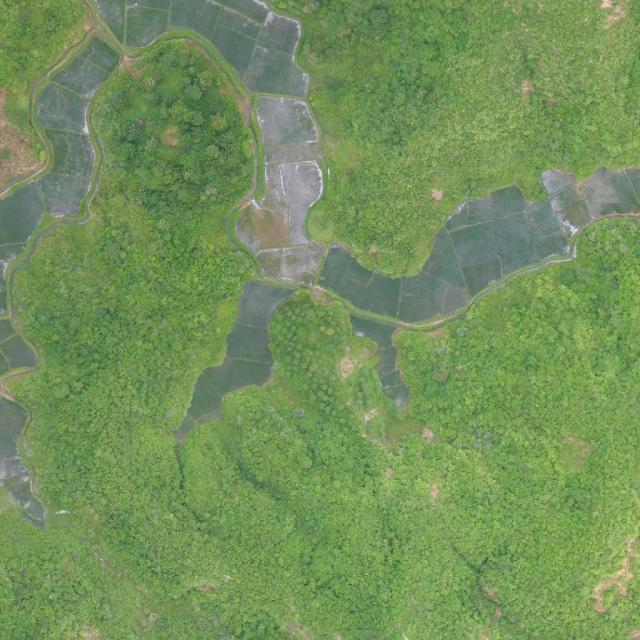agricultural_land: (168, 270, 311, 466), (0, 391, 48, 531), (51, 31, 123, 105), (38, 130, 97, 220), (279, 159, 331, 246), (243, 45, 311, 98), (0, 181, 44, 259), (34, 82, 93, 133), (203, 25, 258, 77), (234, 202, 289, 252), (275, 234, 326, 287), (257, 12, 304, 57), (126, 6, 168, 49), (228, 206, 264, 256), (217, 6, 263, 40), (96, 0, 125, 42), (258, 164, 284, 207), (264, 143, 315, 164), (257, 248, 283, 277), (260, 187, 284, 213), (367, 333, 371, 336)
